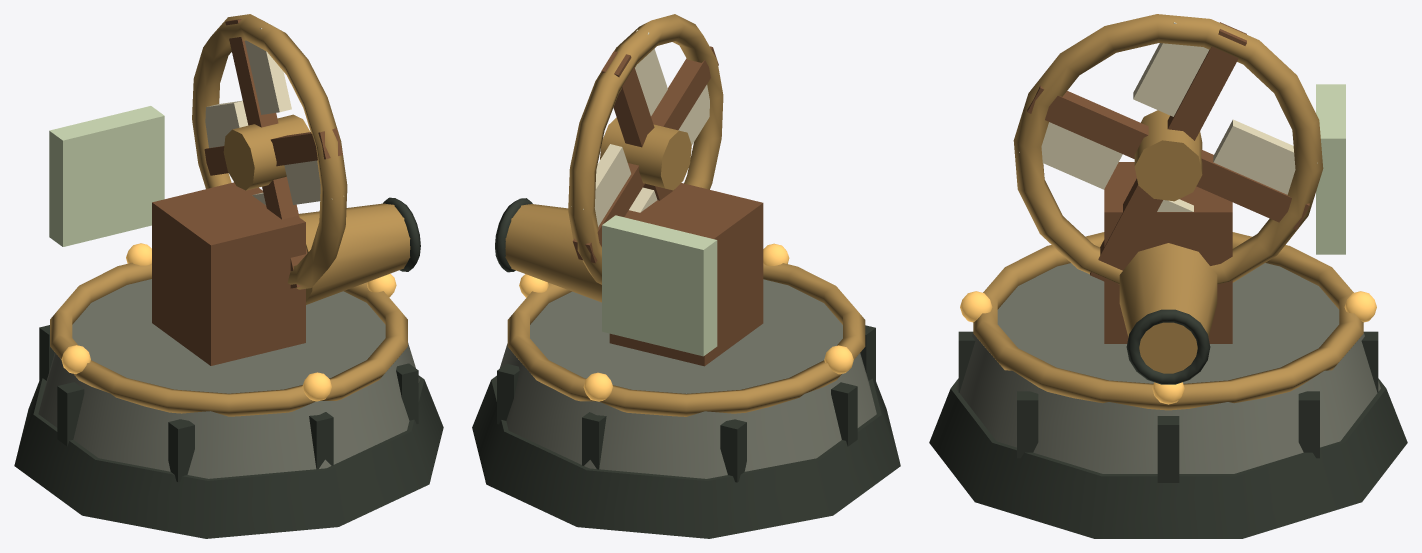
The model's file is tower_wind_windSwitch.glb.
The picture shows the model from 3 angles, left to right: view 1: azimuth 30°, elevation 25°; view 2: azimuth 150°, elevation 25°; view 3: azimuth 270°, elevation 25°; orthographic projection. The views are drawn at different scales.
Parts seen in each view (by area): view 1: stone_1, foot_0, mill_15, deflector_28, rim_2, guide_ring_16, air_nozzle_26, hub_17, sail_21, spar_20, spar_22, sail_19 (+11 smaller); view 2: stone_1, foot_0, deflector_28, rim_2, mill_15, guide_ring_16, air_nozzle_26, hub_17, spar_22, spar_20, sail_19, mortar_8 (+10 smaller); view 3: stone_1, foot_0, guide_ring_16, rim_2, air_nozzle_26, mill_15, deflector_28, hub_17, sail_19, spar_22, sail_21, sail_23 (+12 smaller).
Part boxes in pixels (left/top/right/bottom): stone_1: left=38, top=279, right=419, bottom=478; foot_0: left=14, top=375, right=443, bottom=538; mill_15: left=152, top=182, right=305, bottom=365; deflector_28: left=49, top=106, right=164, bottom=246; rim_2: left=50, top=262, right=407, bottom=416; guide_ring_16: left=192, top=14, right=347, bottom=289; air_nozzle_26: left=299, top=203, right=410, bottom=304; hub_17: left=223, top=114, right=310, bottom=190; sail_21: left=245, top=25, right=291, bottom=114; spar_20: left=225, top=19, right=278, bottom=127; spar_22: left=270, top=128, right=342, bottom=166; sail_19: left=205, top=100, right=248, bottom=147; stone_1: left=496, top=279, right=876, bottom=478; foot_0: left=472, top=375, right=900, bottom=538; deflector_28: left=602, top=215, right=717, bottom=356; rim_2: left=507, top=263, right=865, bottom=416; mill_15: left=609, top=183, right=763, bottom=366; guide_ring_16: left=568, top=14, right=723, bottom=284; air_nozzle_26: left=505, top=204, right=601, bottom=302; hub_17: left=600, top=117, right=691, bottom=190; spar_22: left=651, top=46, right=718, bottom=130; spar_20: left=601, top=51, right=654, bottom=147; sail_19: left=571, top=144, right=630, bottom=226; mortar_8: left=720, top=419, right=746, bottom=482; stone_1: left=956, top=263, right=1380, bottom=473; foot_0: left=929, top=378, right=1407, bottom=538; guide_ring_16: left=1013, top=14, right=1323, bottom=284; rim_2: left=973, top=232, right=1363, bottom=410; air_nozzle_26: left=1119, top=243, right=1217, bottom=373; mill_15: left=1104, top=162, right=1232, bottom=343; deflector_28: left=1316, top=84, right=1345, bottom=254; hub_17: left=1134, top=110, right=1202, bottom=201; sail_19: left=1213, top=119, right=1317, bottom=194; spar_22: left=1027, top=85, right=1148, bottom=158; sail_21: left=1133, top=22, right=1208, bottom=116; sail_23: left=1019, top=122, right=1122, bottom=189.
Bounding box in the file's own units: 0.5326 × 0.5815 × 0.56.
